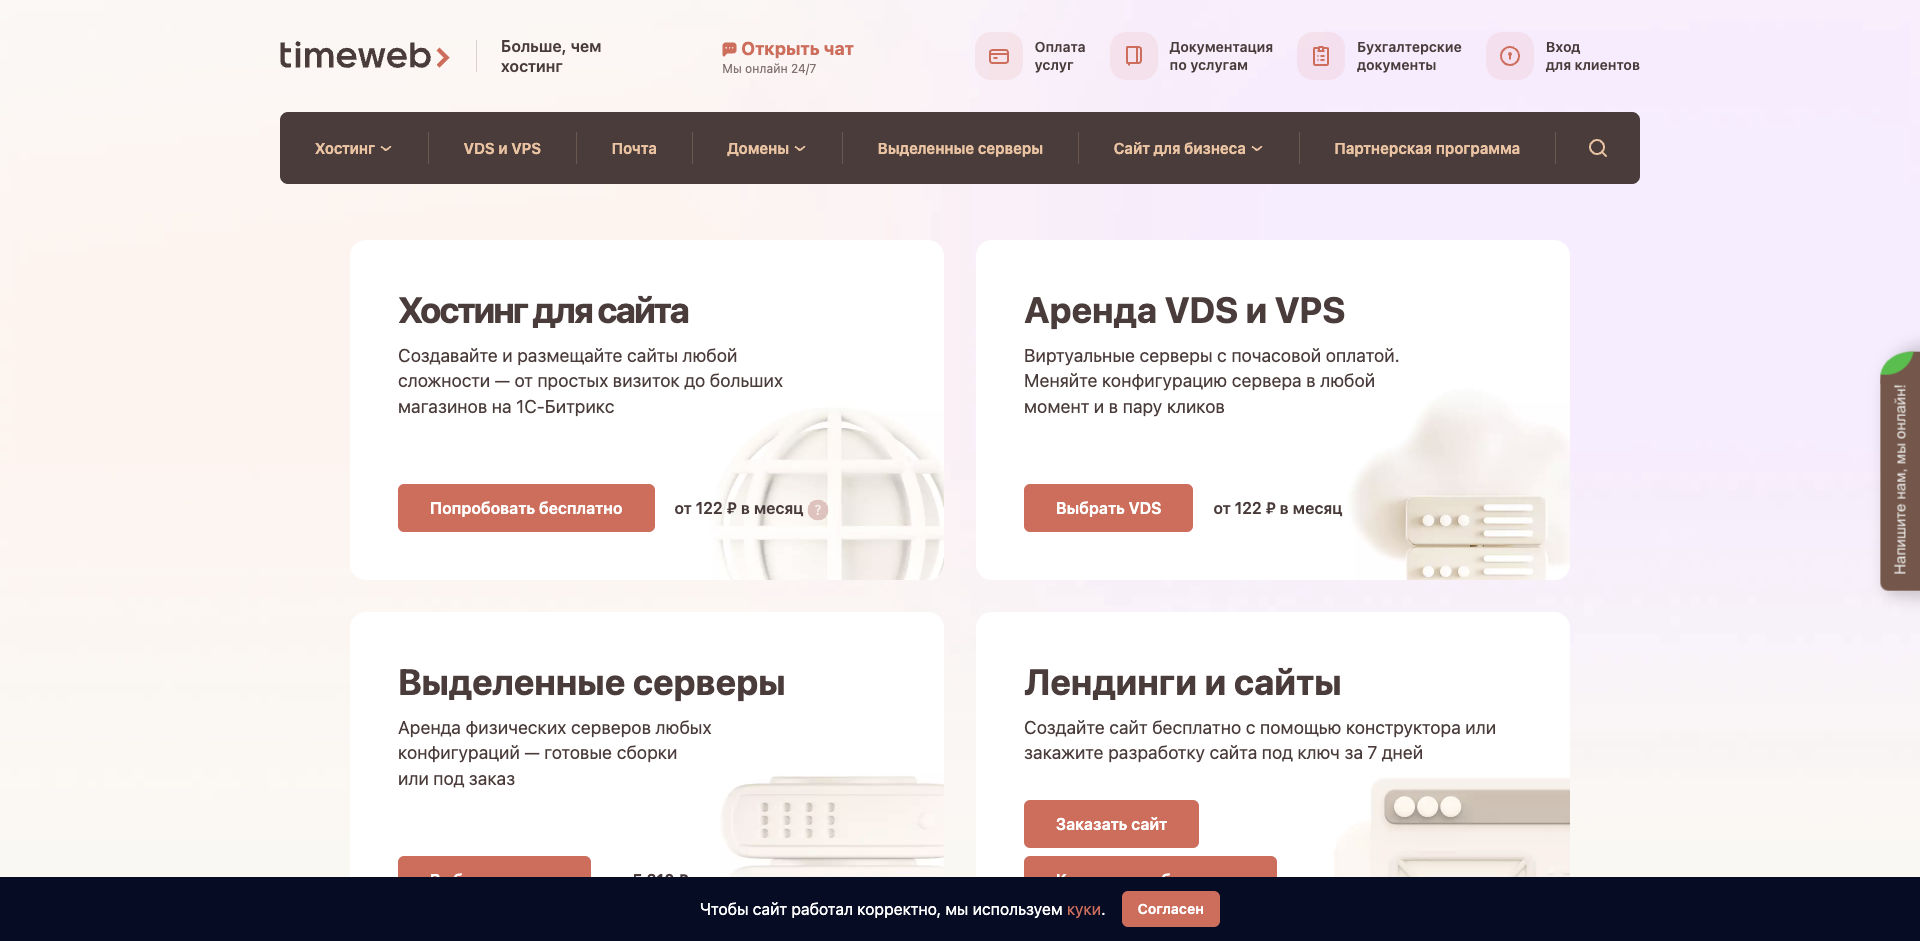button: (398, 484, 655, 532), (1024, 856, 1277, 904), (398, 856, 591, 904), (1024, 800, 1199, 848), (1024, 484, 1194, 532), (1122, 891, 1220, 928)
link: (398, 484, 655, 532), (1024, 856, 1277, 904), (398, 856, 591, 904), (1024, 800, 1199, 848), (1024, 484, 1194, 532), (1297, 32, 1462, 80), (1109, 32, 1273, 80), (1487, 32, 1640, 80), (280, 36, 452, 76), (1299, 136, 1555, 161), (842, 136, 1078, 161), (1079, 136, 1299, 161), (975, 32, 1086, 80), (693, 136, 842, 161), (1122, 891, 1220, 928), (280, 136, 427, 161), (429, 136, 576, 161), (577, 136, 692, 161), (1067, 901, 1101, 918)
